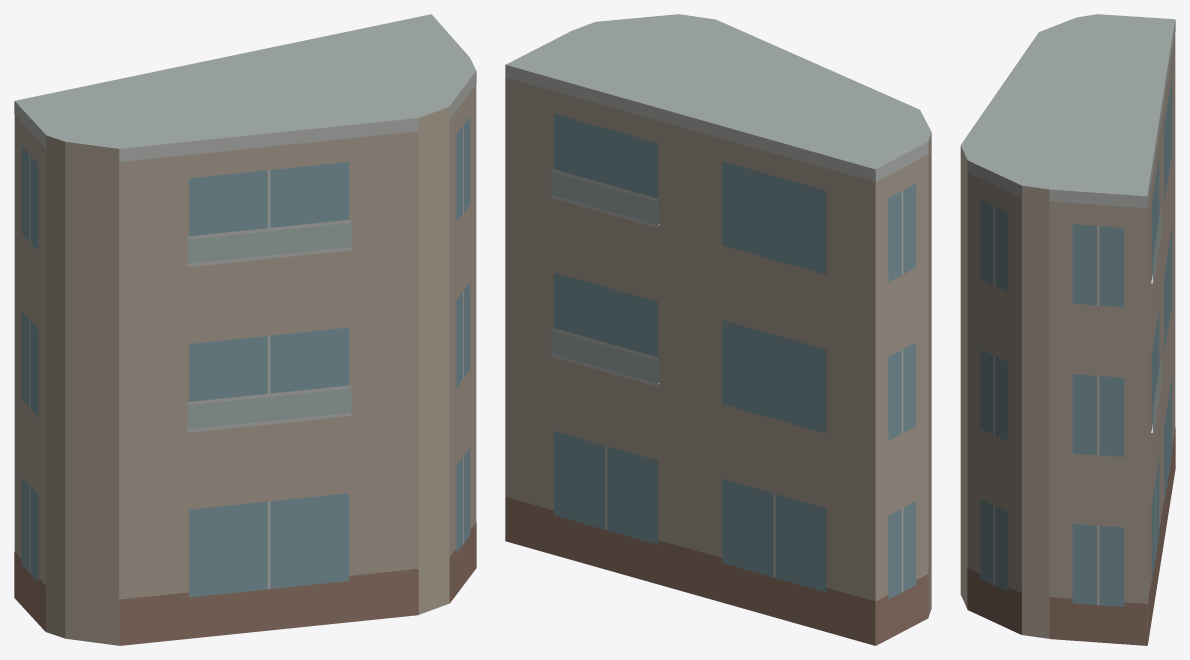
File: survey-upis-33021920.glb
3 renders of one model, left to right at view 1: azimuth 30°, elevation 25°; view 2: azimuth 150°, elevation 25°; view 3: azimuth 270°, elevation 25°, orthographic. The views are drawn at different scales.
Visible parts, largest first — view 1: survey-upis-33021920.tmp; view 2: survey-upis-33021920.tmp; view 3: survey-upis-33021920.tmp.
Part boxes in pixels (x1,y1,x2,y2): survey-upis-33021920.tmp: (14,14,476,645); survey-upis-33021920.tmp: (505,14,931,645); survey-upis-33021920.tmp: (960,14,1175,645).
Bounding box in the file's own units: 7.97 × 9.15 × 3.97.
